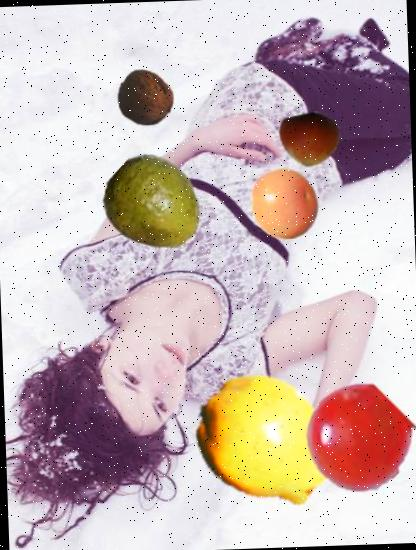Grapefruit: (248, 167, 322, 241)
Guava: (102, 154, 207, 258)
Nut: (280, 108, 342, 171)
Quince: (191, 364, 344, 518)
Redcurrant: (302, 383, 414, 495)
Walnut: (116, 69, 175, 128)
